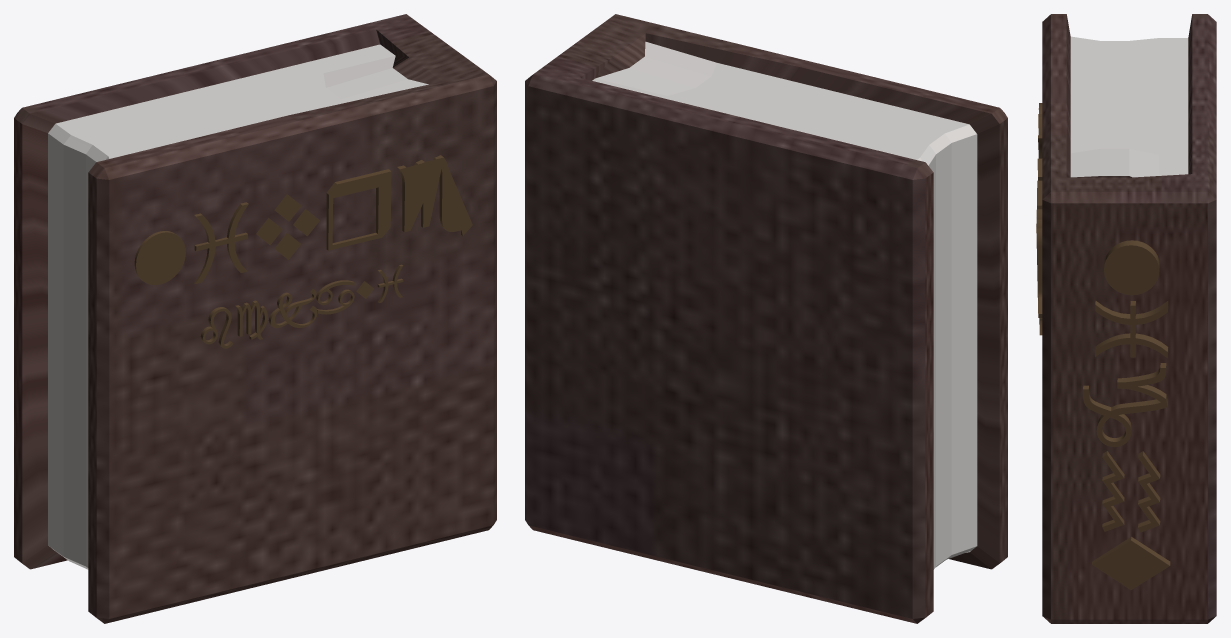
File: livre_3d.fbx
The picture shows the model from 3 angles, left to right: view 1: azimuth 30°, elevation 25°; view 2: azimuth 150°, elevation 25°; view 3: azimuth 270°, elevation 25°; orthographic projection. The views are drawn at different scales.
Parts seen in each view (by area): view 1: pCube1, pasted__typeMesh1, pasted__pasted__typeMesh1; view 2: pCube1; view 3: pCube1, typeMesh1, pasted__typeMesh1.
Boxes of the visible parts, box(x1,y1,x2,y2) form: pCube1: box(14, 14, 496, 623); pasted__typeMesh1: box(134, 155, 472, 285); pasted__pasted__typeMesh1: box(200, 264, 403, 348); pCube1: box(525, 14, 1007, 623); pCube1: box(1042, 14, 1216, 623); typeMesh1: box(1083, 240, 1170, 589); pasted__typeMesh1: box(1036, 103, 1042, 317).
Bounding box in the file's own units: 5.58 × 5.91 × 2.23.
Materials: 3 (1 with a texture image).
